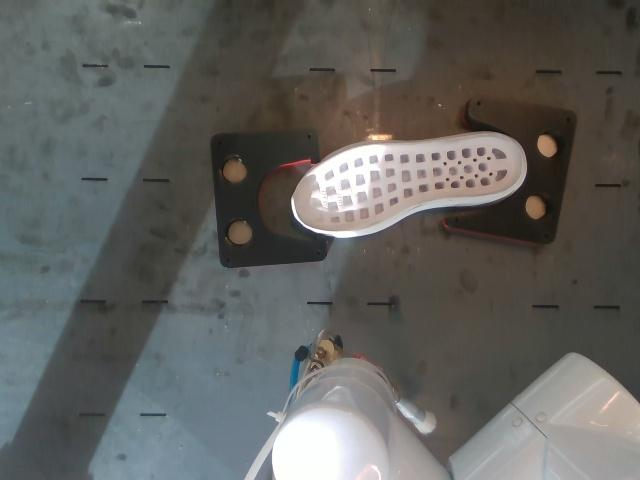shoes: (293, 135, 524, 231)
